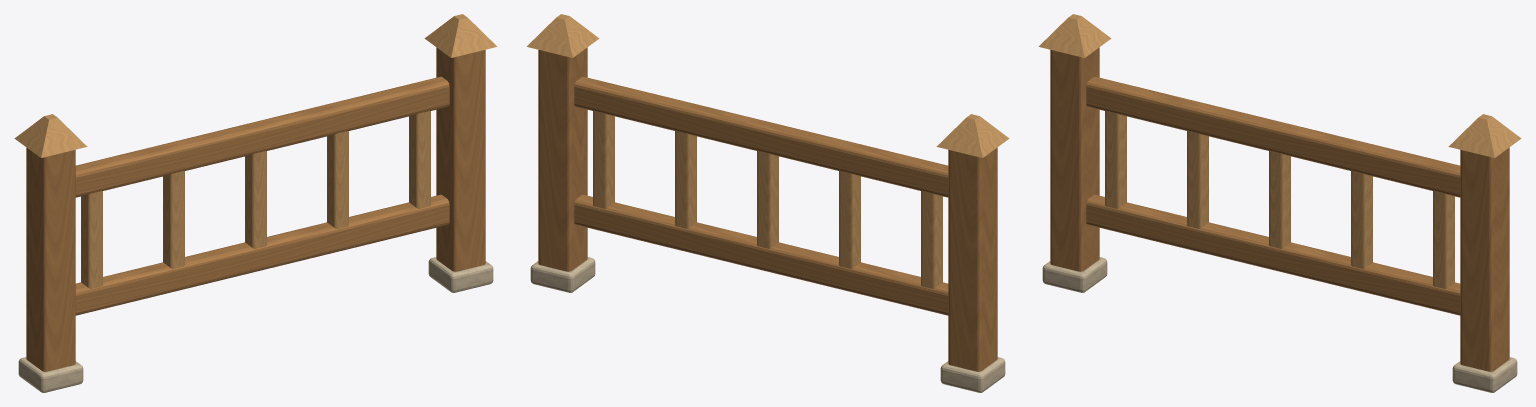
Rendered from fence.glb.
3 renders of one model, left to right at view 1: azimuth 30°, elevation 25°; view 2: azimuth 150°, elevation 25°; view 3: azimuth 330°, elevation 25°, orthographic.
Parts seen in each view (by area): view 1: fence; view 2: fence; view 3: fence.
Part boxes in pixels (x1,y1,x2,y2): fence: (14,14,497,392); fence: (526,14,1009,392); fence: (1038,14,1521,392).
Size of the model in its own units: 2.23 by 1.23 by 0.2263.
Materials: 3 (3 with a texture image).
